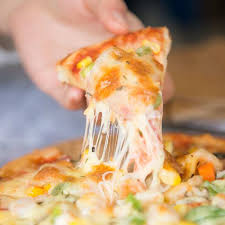pizza: (54, 35, 192, 158)
